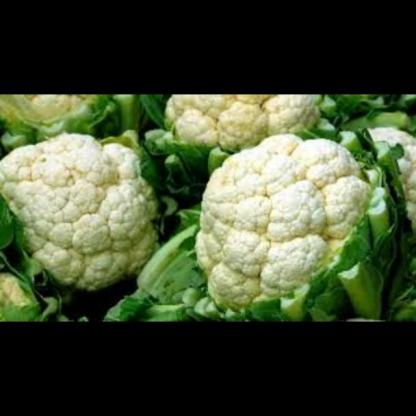cayliflower: (194, 130, 375, 300), (0, 132, 168, 288), (147, 94, 333, 154), (337, 117, 416, 228), (0, 95, 112, 124), (0, 273, 48, 321)
